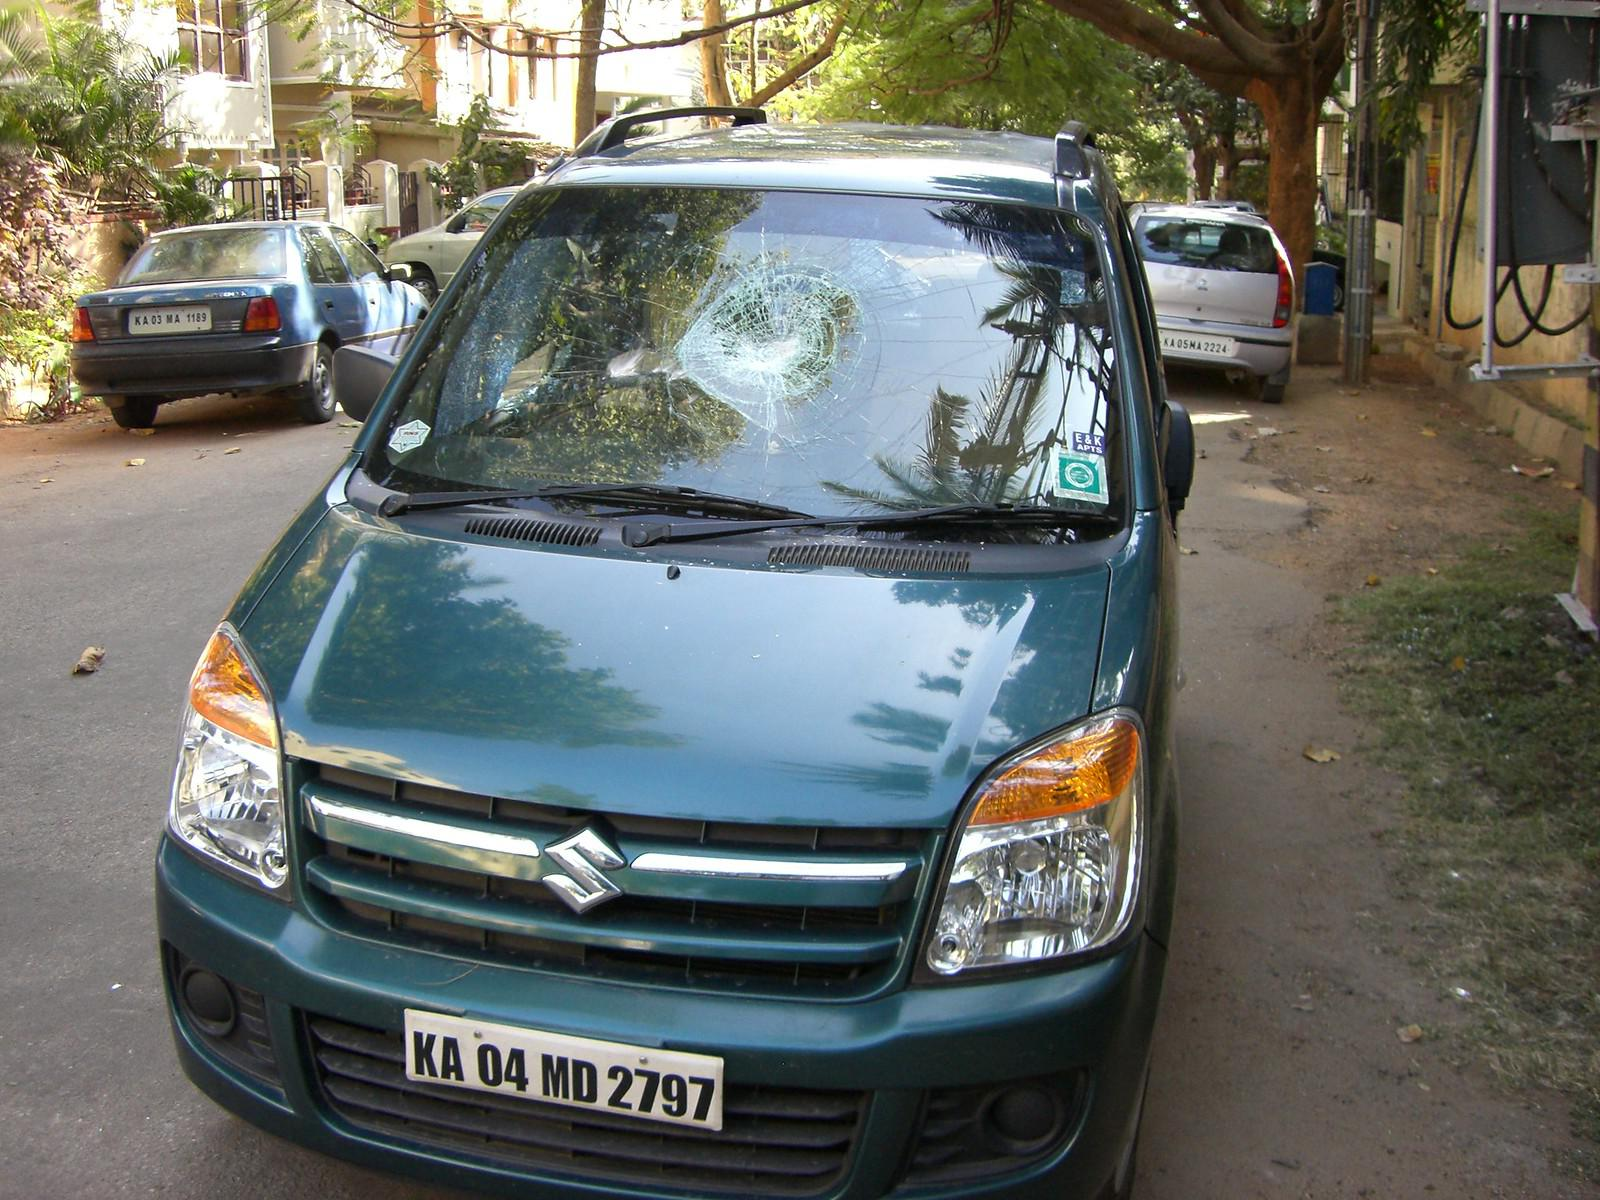Front-Windscreen-Damage: (621, 160, 1083, 516)
